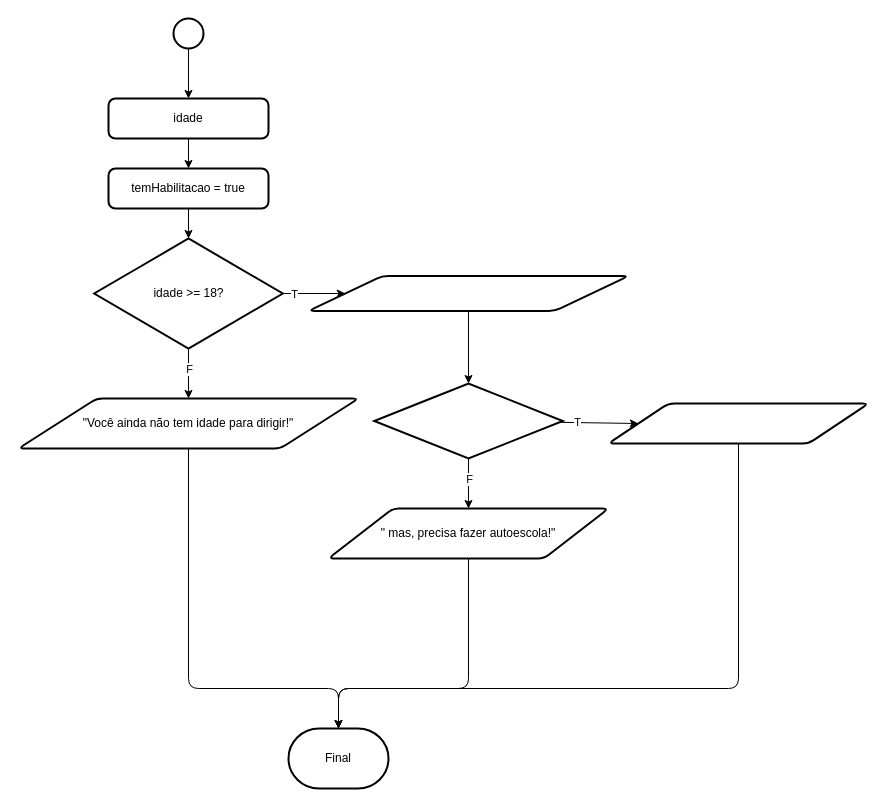
Image size: 886x806. Some labels were removed from this diagram. Each missing label, with the centre of its shape:
" e pode conduzir carros!": point (738, 423)
"Você tem idade para dirigir": point (468, 293)
temHabilitacao?: point (468, 420)
